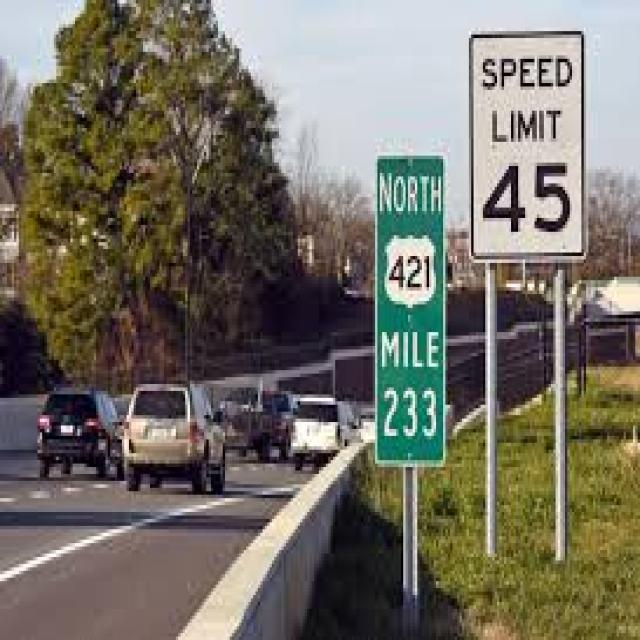speedLimit45: (464, 30, 588, 262)
